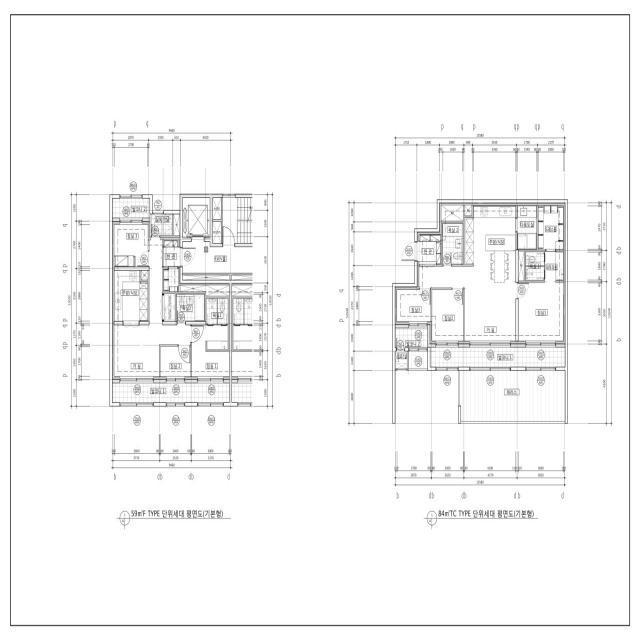space_balconi: (430, 347, 565, 367), (112, 383, 229, 402), (112, 198, 150, 218), (395, 328, 427, 348)
space_bedroom: (518, 283, 563, 344), (192, 325, 229, 379), (112, 221, 150, 267), (432, 290, 463, 344), (397, 290, 431, 324), (160, 347, 191, 379)
space_elevator: (183, 198, 210, 238)
space_elevator_hall: (183, 242, 253, 273)
space_front: (417, 235, 441, 265), (164, 237, 180, 267)
space_kitchen: (465, 206, 516, 283), (112, 271, 148, 321)
space_living_room: (112, 237, 190, 379), (419, 264, 516, 344)
space_other: (538, 206, 563, 249), (517, 206, 537, 249), (180, 284, 229, 296), (545, 252, 563, 281), (164, 269, 180, 292), (441, 205, 463, 221), (164, 294, 175, 321), (183, 275, 230, 280), (518, 251, 524, 281), (213, 198, 221, 219), (213, 222, 221, 243), (174, 214, 180, 235), (231, 275, 252, 280), (465, 205, 472, 215), (141, 271, 148, 280)
space_outdoor_room: (151, 214, 172, 235), (395, 351, 407, 369)
space_staircase: (223, 198, 252, 243)
space_toilet: (206, 298, 228, 350), (442, 223, 463, 265), (177, 294, 204, 321), (525, 251, 544, 281)
